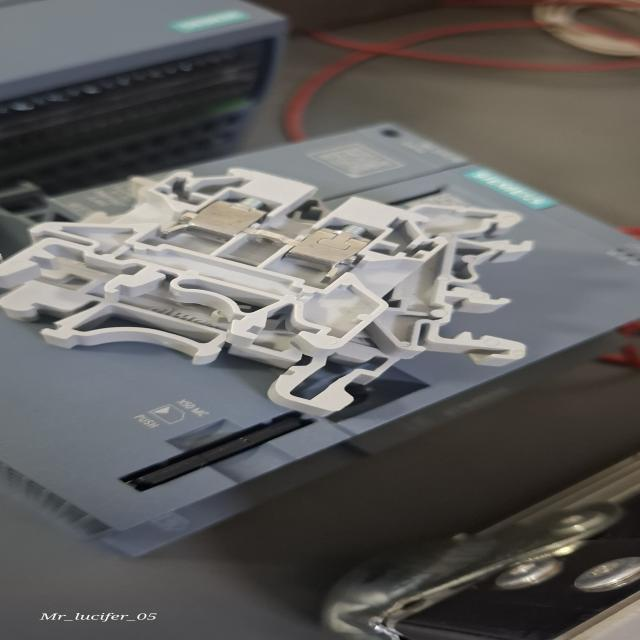Pass: (1, 166, 448, 348)
